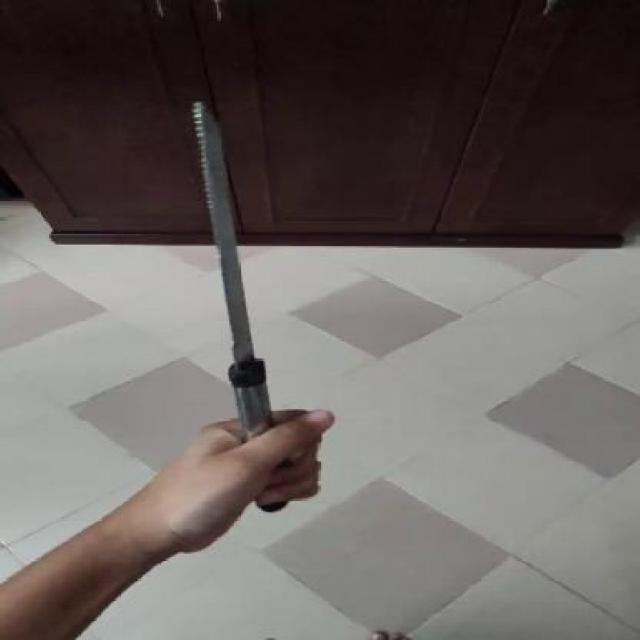-: (182, 99, 306, 393)
